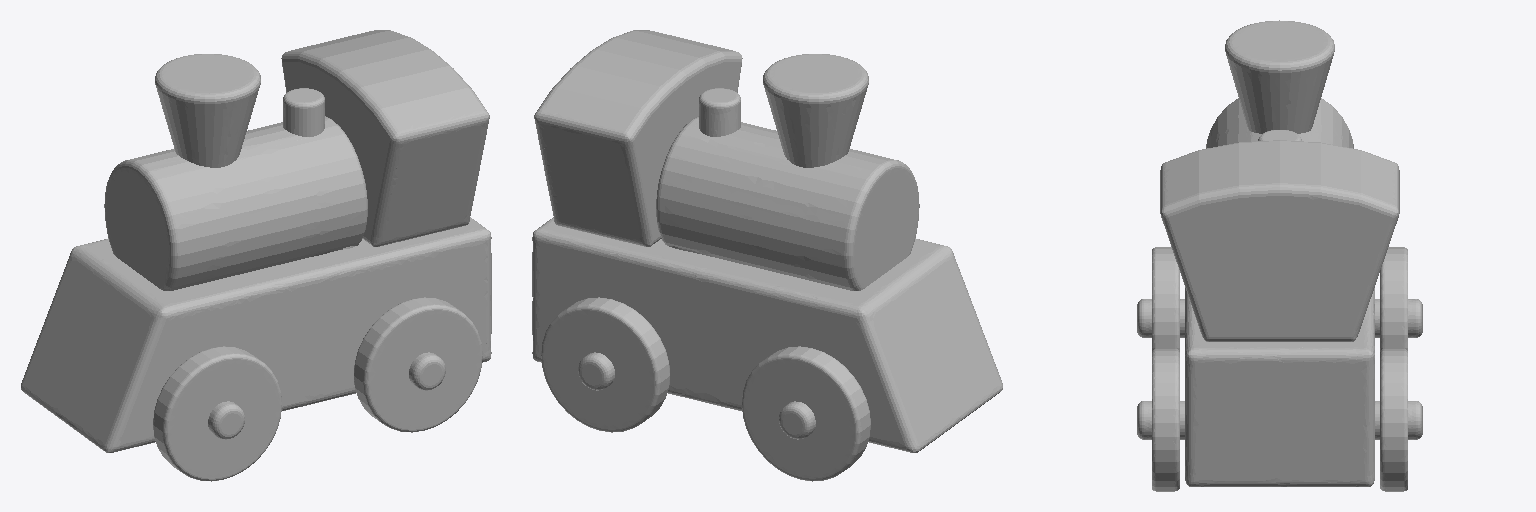
The robot description file, URDF, robot "root":
<robot name="root">
  <link name="link_001">
    <visual>
      <origin xyz="0 0 0" rpy="0 0 0"/>
      <geometry>
        <mesh filename="train.obj" scale="0.600E+00 0.600E+00 0.6000E+00"/>
      </geometry>
      <material name="">
        <color rgba="7.50E-01 7.50E-01 7.50E-01 1"/>
      </material>
    </visual>
    <collision>
      <origin xyz="0 0 0" rpy="0 0 0"/>
      <geometry>
        <mesh filename="train.obj" scale="0.6000E+00 0.6000E+00 0.6000E+00"/>
      </geometry>
    </collision>
    <inertial>
      <mass value="0.16"/> <!-- 质量：0.1kg -->
    </inertial>
  </link>
</robot>

--- What the picture shows (computed from the rendered views, not written in the file) ---
The picture shows the robot from 3 angles, left to right: view 1: azimuth 30°, elevation 25°; view 2: azimuth 150°, elevation 25°; view 3: azimuth 270°, elevation 25°; orthographic projection.
Model root with 1 links and 0 joints (none), rooted at link_001, posed every joint at zero.
Links seen in each view (by area): view 1: link_001; view 2: link_001; view 3: link_001.
Link boxes in pixels (box(x1,y1,x2,y2)): link_001: box(21, 30, 491, 481); link_001: box(532, 30, 1002, 481); link_001: box(1137, 20, 1422, 491).
Size in the robot's own frame: 0.0582 by 0.0359 by 0.0505 metres.
1 mesh visuals loaded from 1 distinct referenced files (1 OBJ).
